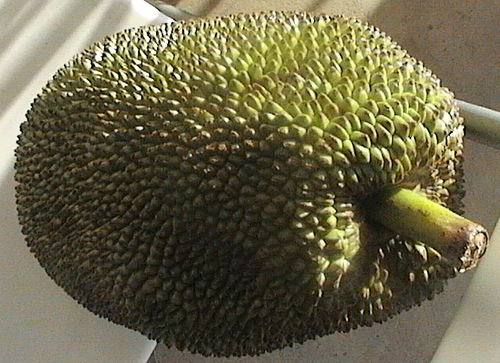jackfruit: (14, 10, 470, 358)
